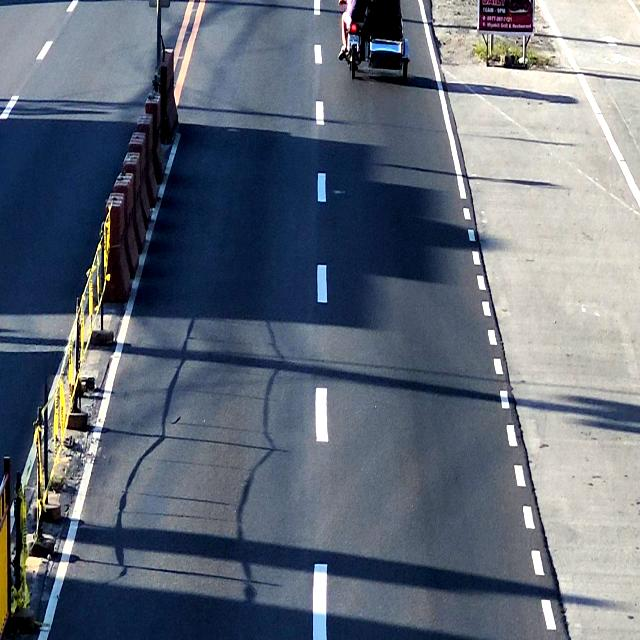License-Plate: (347, 34, 360, 44)
Tricycle: (339, 0, 411, 81)
